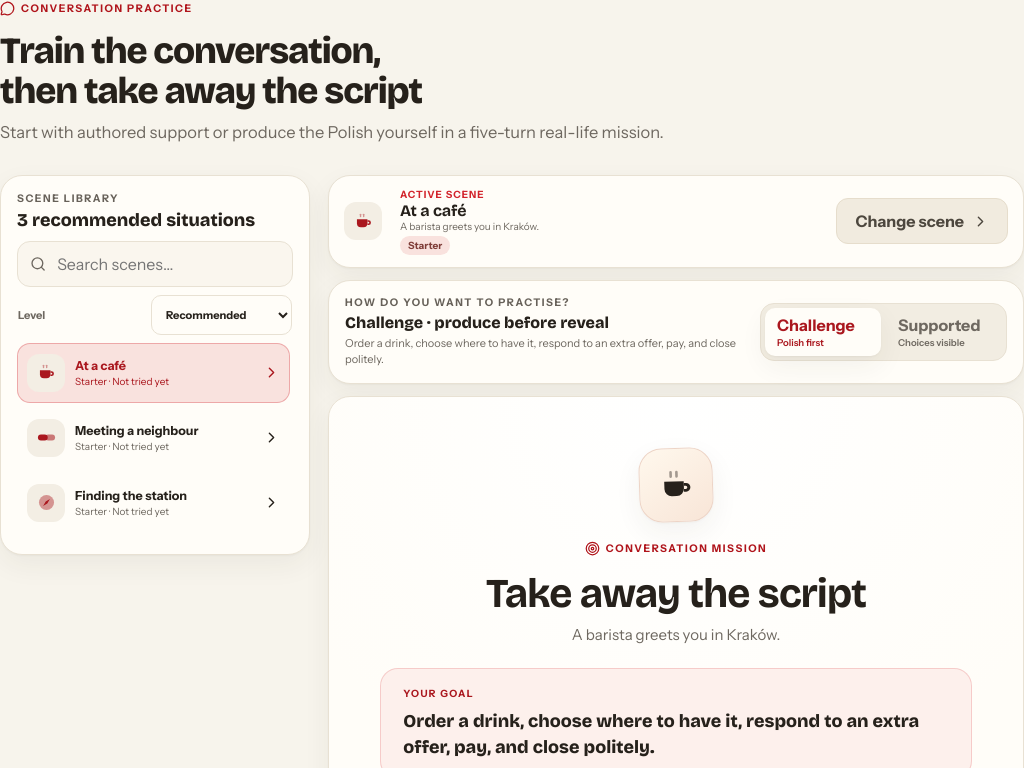
Scenario: dialogue scene browser › offers Challenge first while keeping the supported walkthrough intact
This screenshot has width=1024, height=768.
Check: the heading "Take away the script" is shown, box [486, 569, 866, 618]
Step 1. Click the button "Supported Choices visible" → (944, 332), box [886, 308, 1002, 356]
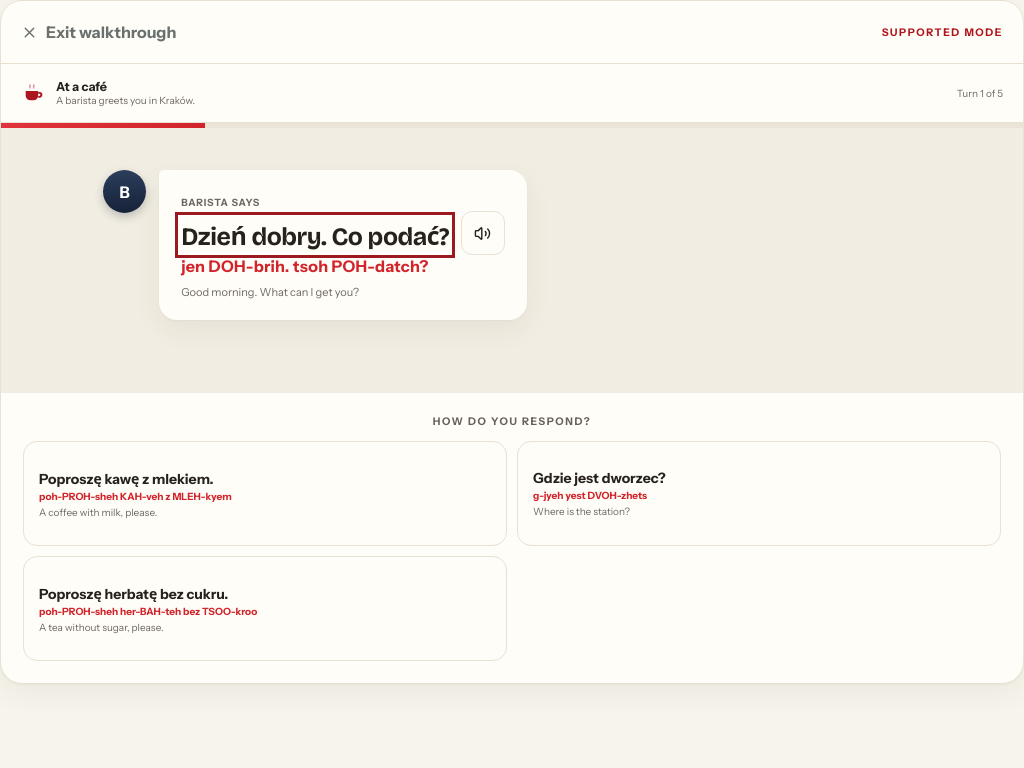
Check: the text "HOW DO YOU RESPOND?" is shown, box [433, 415, 591, 428]
Check: the text "Poproszę kawę z mlekiem." is shown, box [39, 468, 232, 488]
